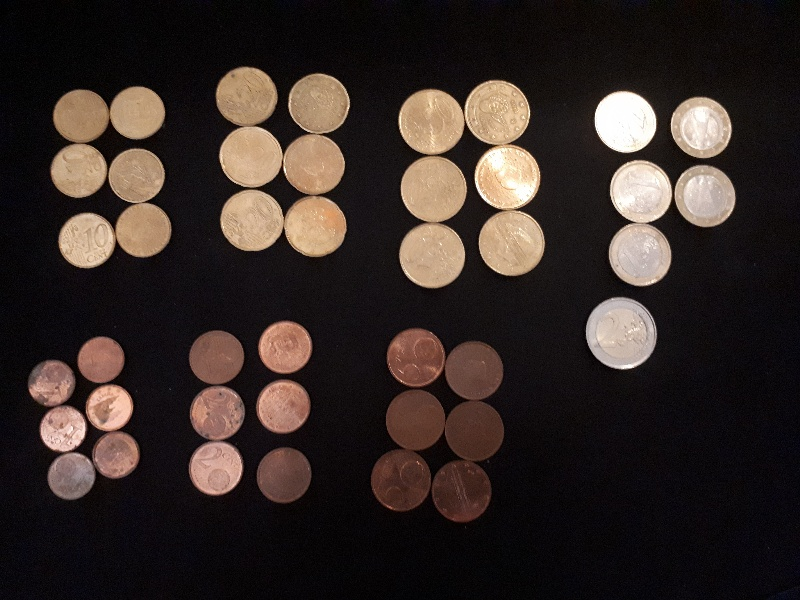1 cent: (92, 431, 145, 482), (25, 357, 79, 407), (47, 450, 98, 502), (78, 329, 127, 383), (85, 383, 137, 431), (40, 404, 88, 452)
1 euro: (591, 87, 662, 156), (670, 93, 736, 161), (673, 162, 739, 229), (608, 157, 673, 224), (608, 223, 673, 288)
10 cent: (113, 202, 178, 262), (56, 211, 117, 272), (108, 84, 169, 143), (108, 147, 168, 203), (50, 87, 109, 143), (50, 144, 106, 199)
2 cent: (186, 438, 246, 500), (254, 446, 315, 505), (256, 317, 314, 375), (256, 377, 315, 434), (189, 328, 246, 385), (188, 386, 247, 441)
2 euro: (582, 296, 660, 374)
20 cent: (282, 192, 351, 259), (285, 72, 355, 137), (211, 64, 282, 128), (216, 123, 284, 189), (282, 133, 351, 198), (219, 189, 286, 255)
5 cent: (367, 448, 435, 515), (429, 460, 492, 524), (384, 325, 447, 388), (444, 338, 506, 401), (383, 388, 446, 450), (444, 398, 505, 462)
50 cent: (393, 155, 470, 224), (396, 86, 467, 158), (464, 77, 535, 147), (476, 210, 548, 279), (396, 221, 466, 291), (473, 143, 543, 208)
